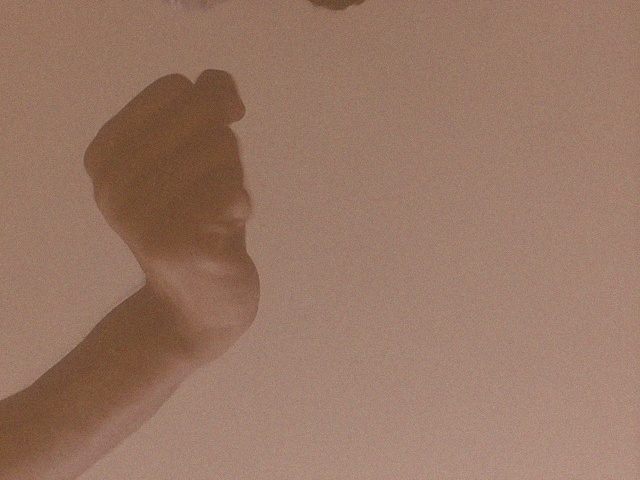hand: (79, 66, 265, 357)
